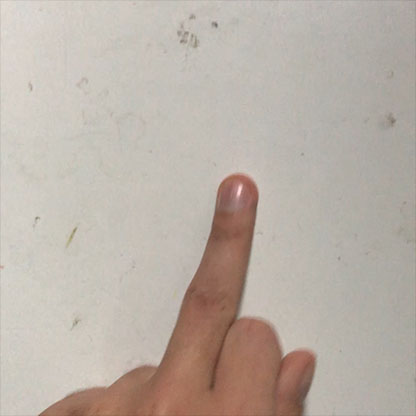fingertip: (206, 164, 265, 227)
